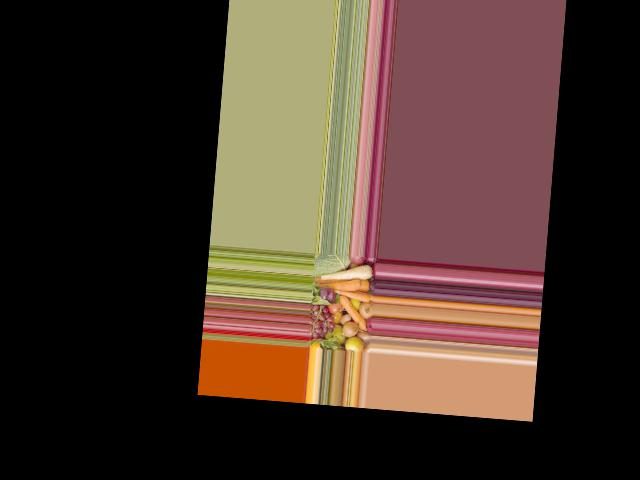carrot: (318, 279, 363, 291)
